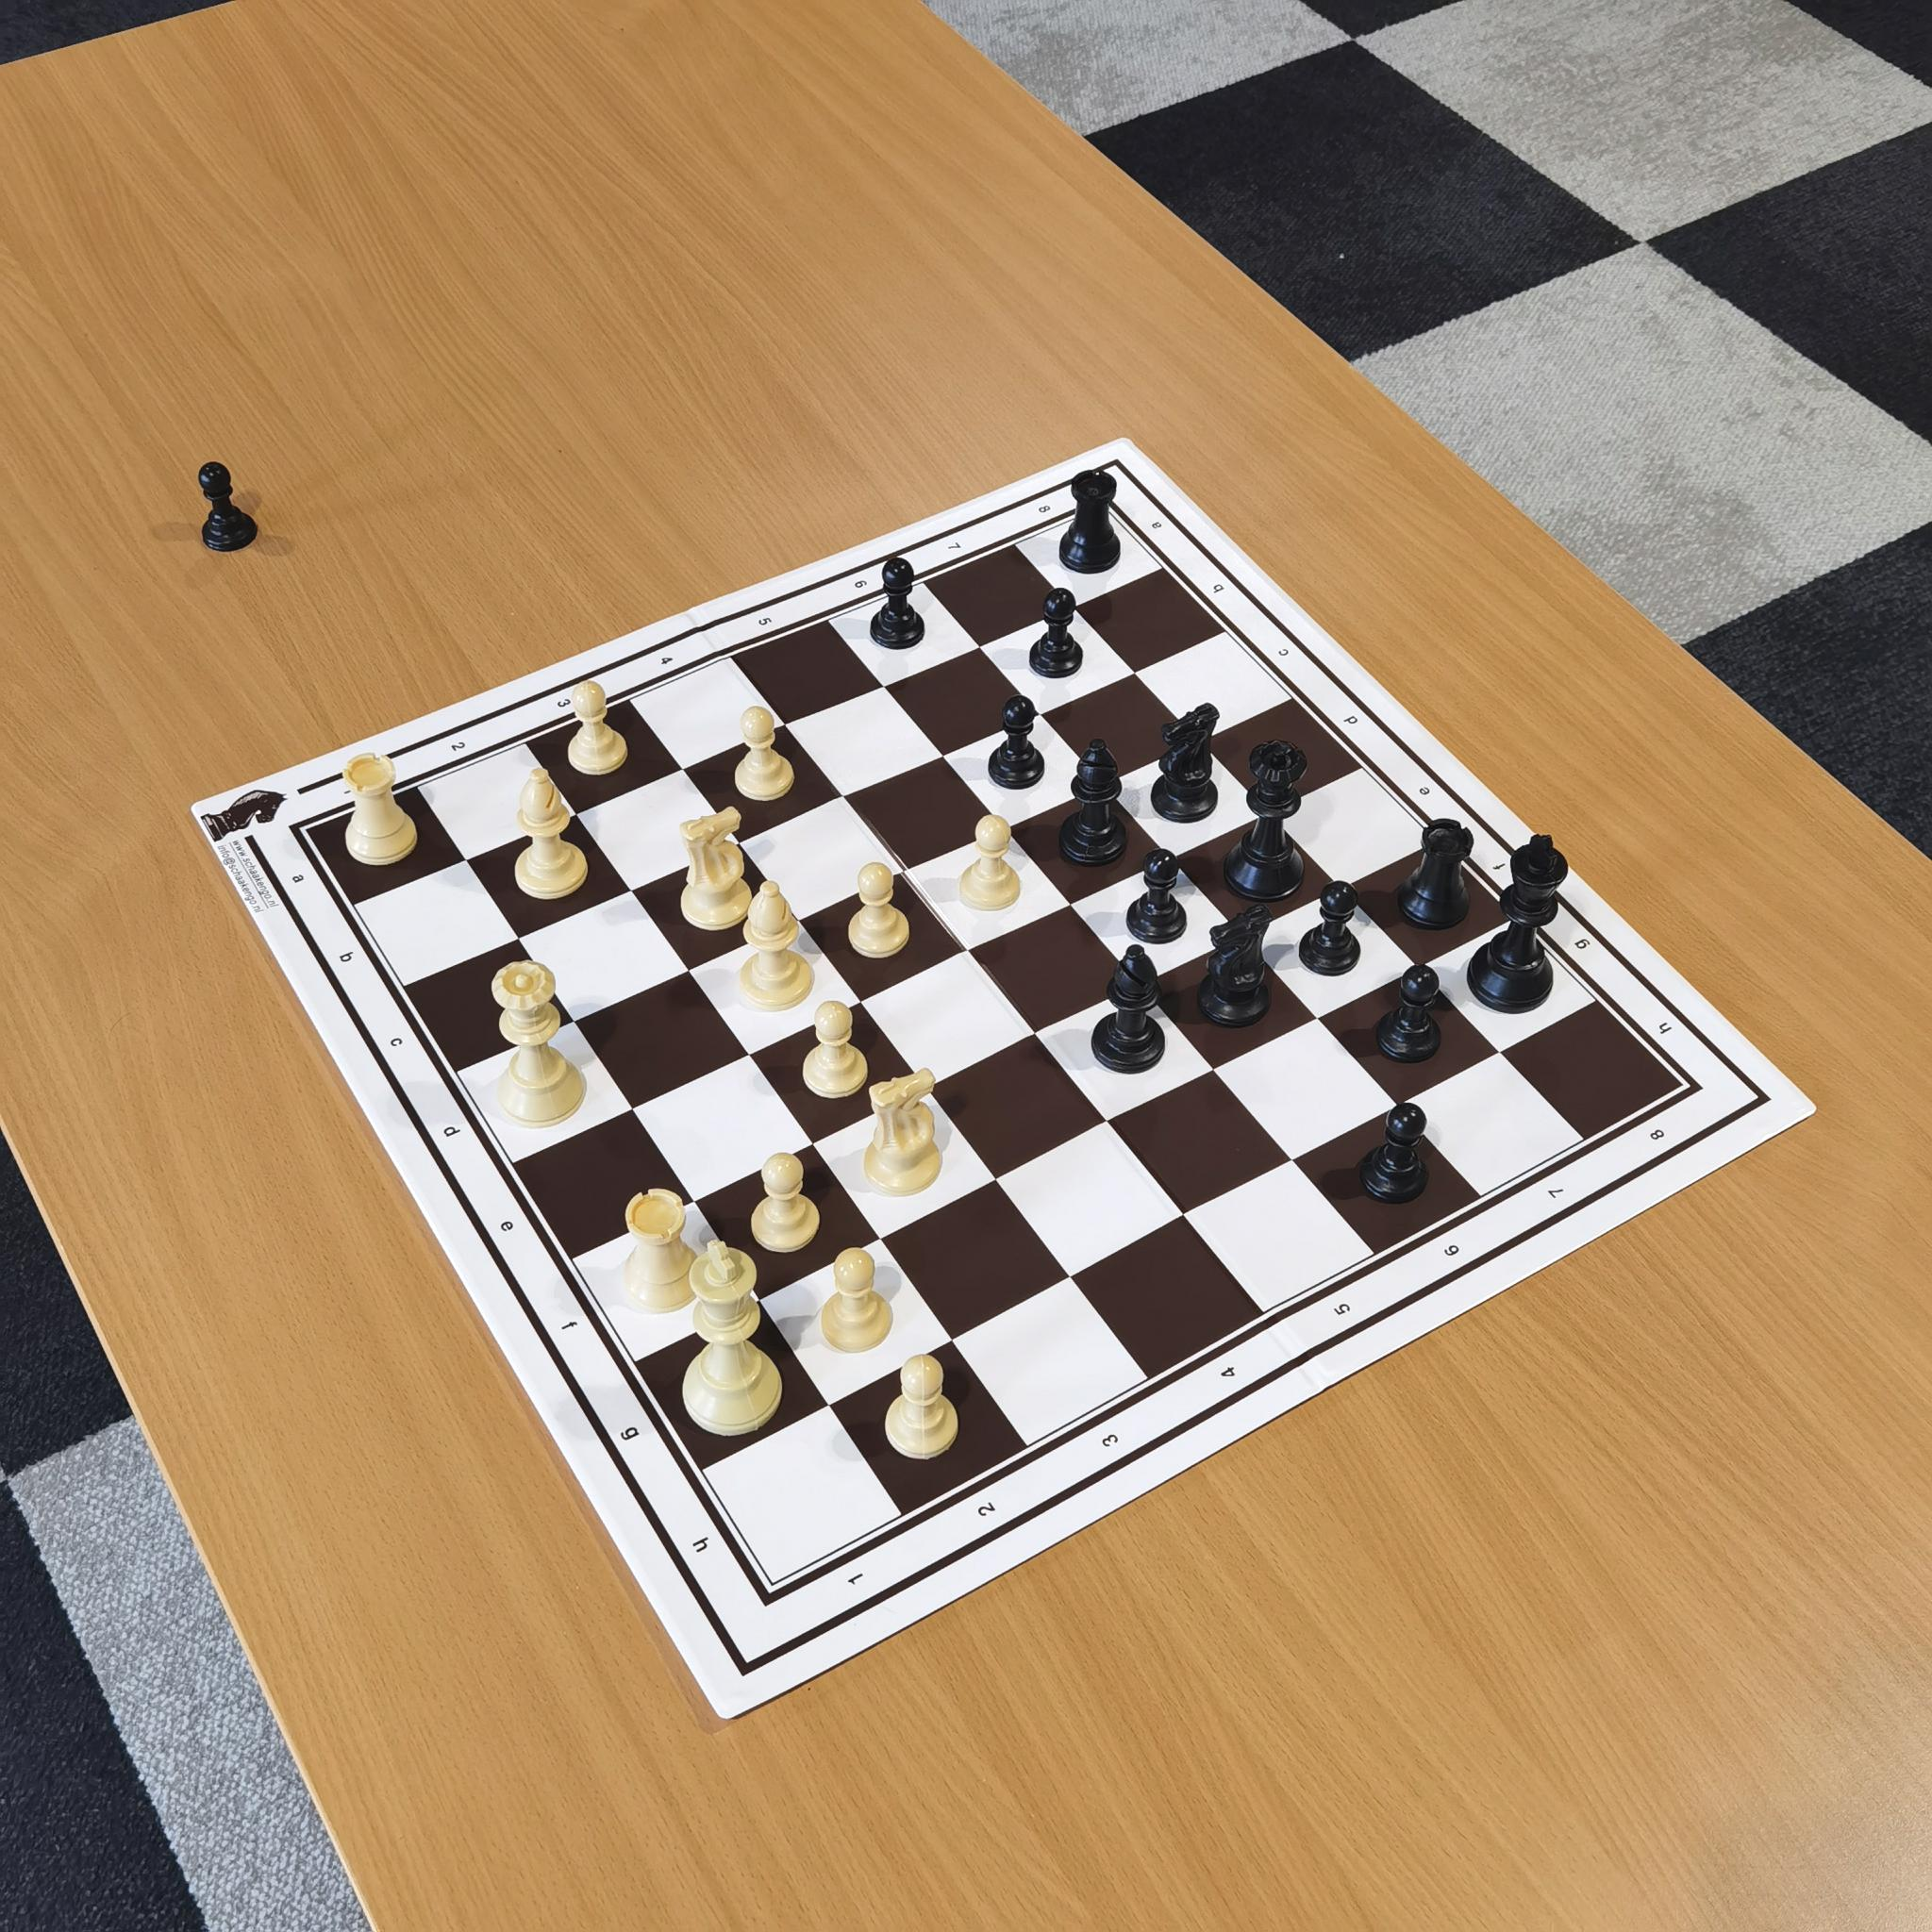corners: (741, 1566, 797, 1621), (1073, 490, 1122, 545), (275, 811, 329, 855), (1665, 1065, 1721, 1108)
eight: (1640, 1105, 1682, 1159), (1033, 486, 1059, 524)
one: (826, 1554, 886, 1607), (340, 769, 369, 810)
